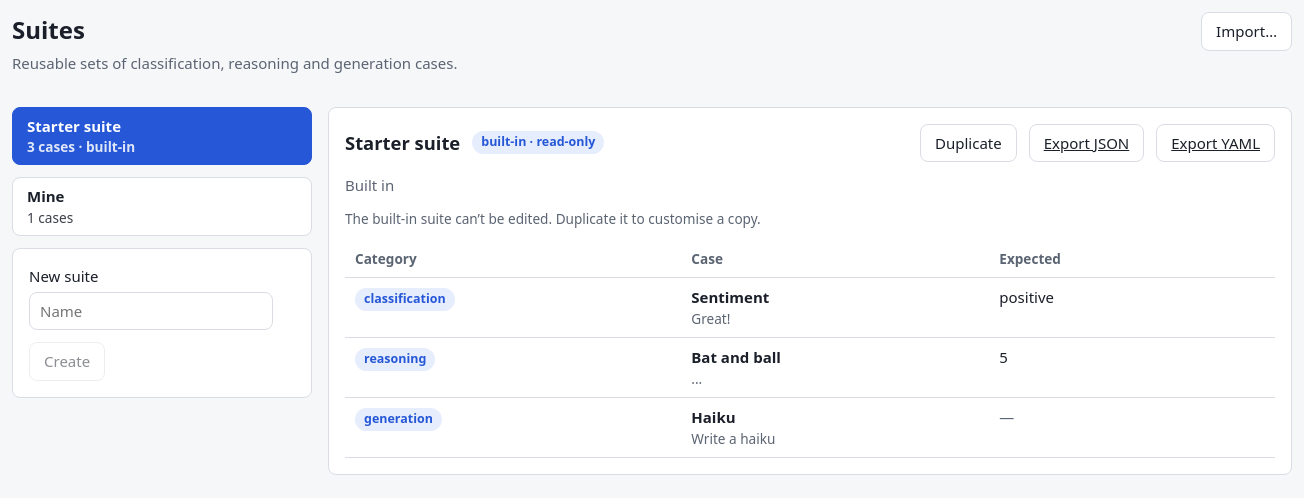
it: 9.9 suites page › shows a name conflict from the server
Expected: the element named "Suite Starter suite" is shown, [328, 106, 1292, 475]
Type "Mine" into the field labelled "New suite". click: (151, 311)
box: [29, 292, 273, 330]
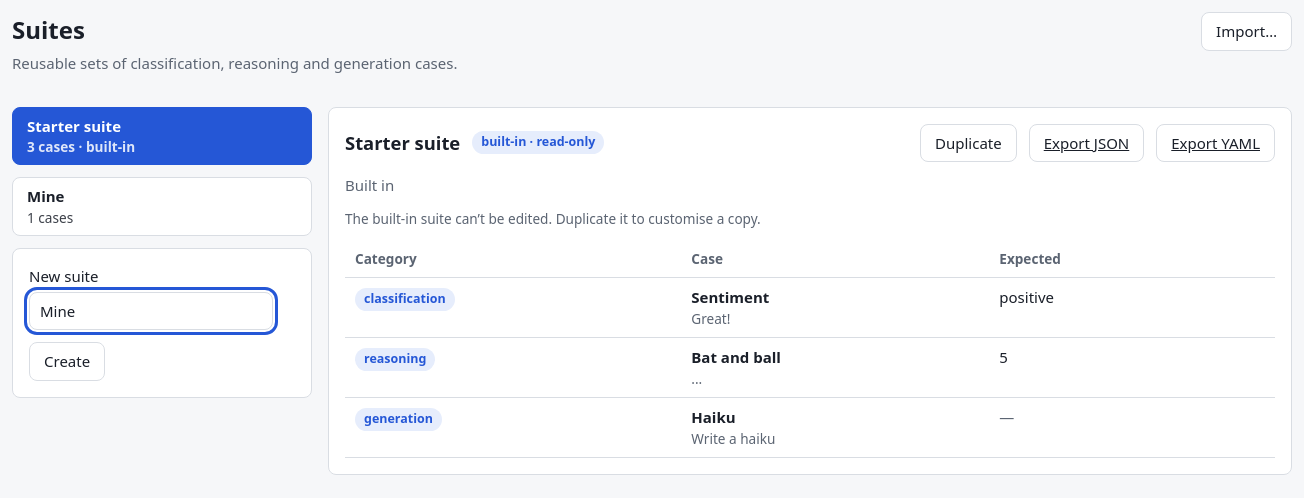
Click the button "Create". click: click(67, 362)
box: [29, 342, 105, 381]
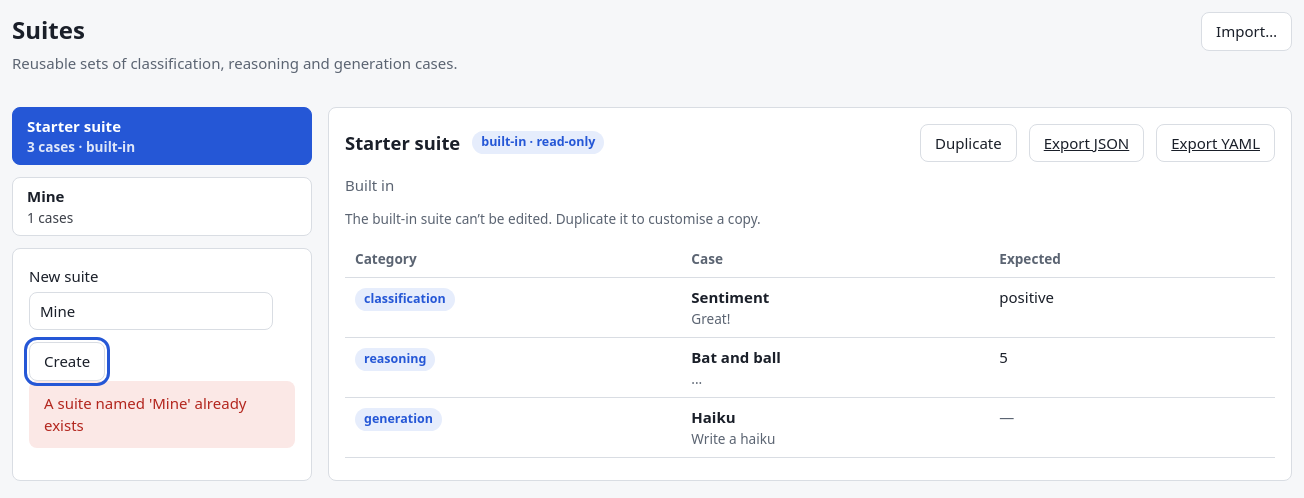
Result: the text "A suite named 'Mine' already exists" is shown at [29, 381, 295, 448]
